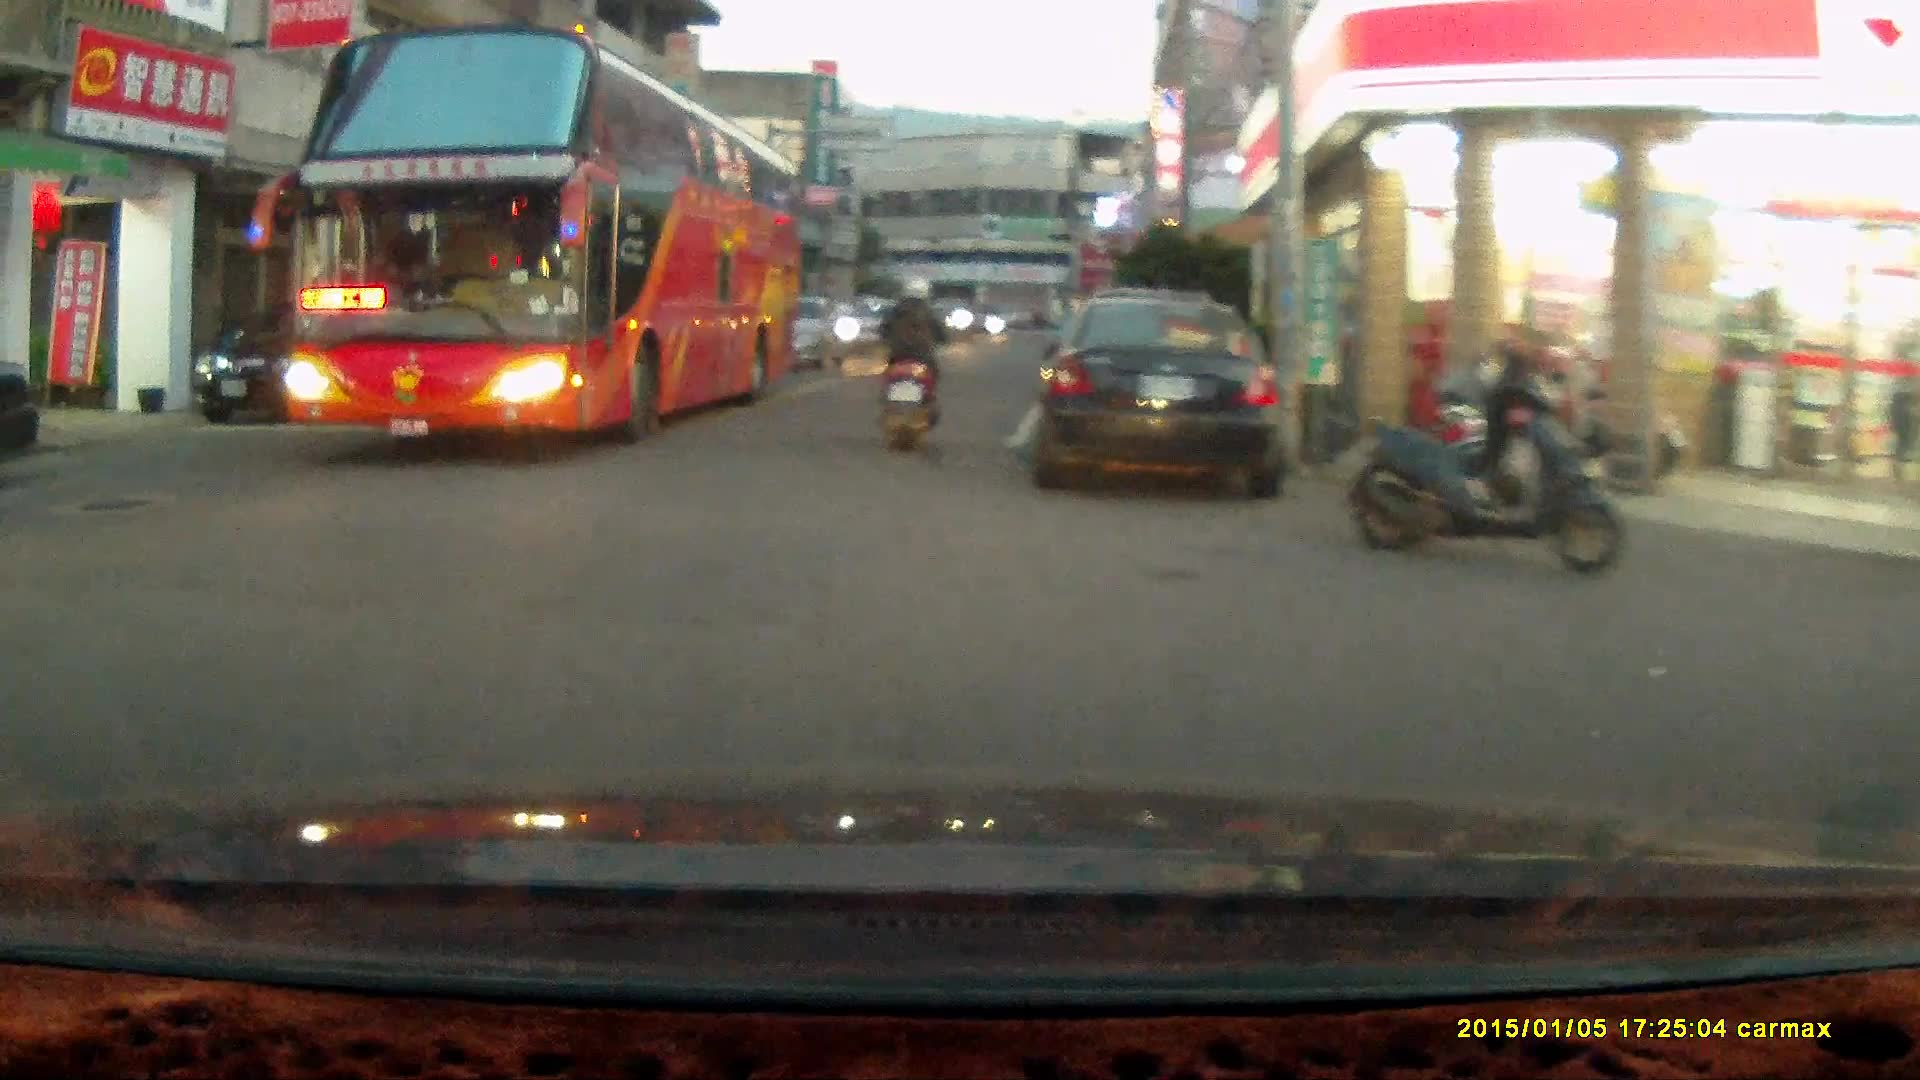rider: (866, 272, 945, 453)
vehicle: (272, 26, 807, 447), (1021, 288, 1292, 494), (189, 304, 379, 427)
